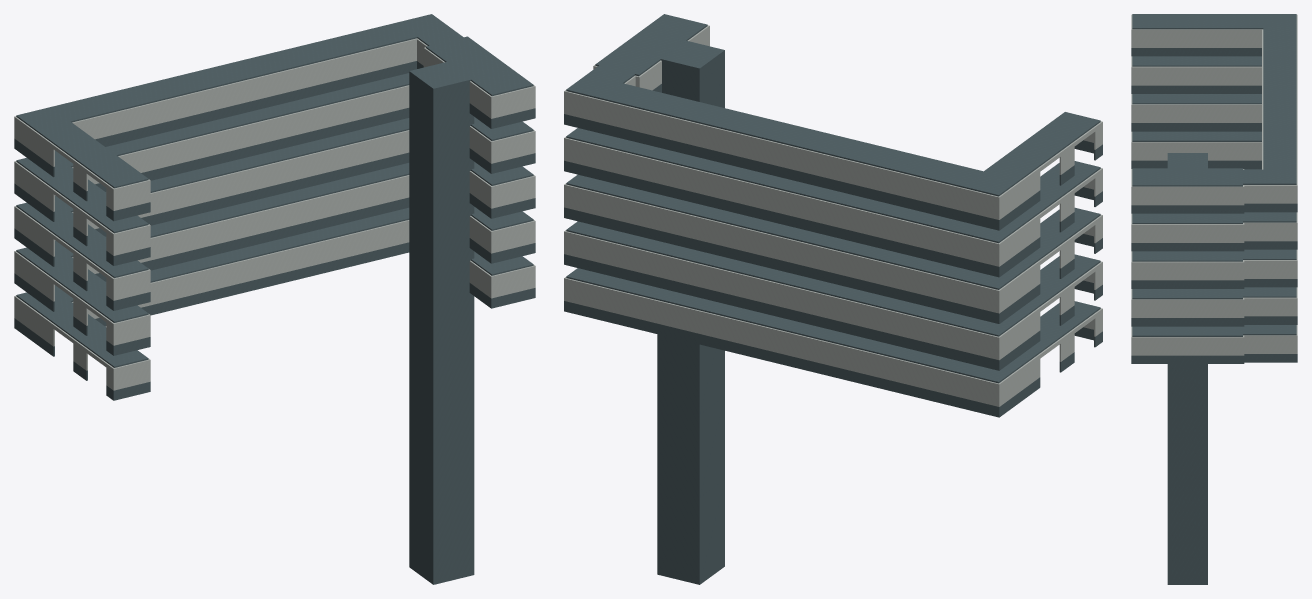
Rendered from AST-STF-G3-003.glb.
3 renders of one model, left to right at view 1: azimuth 30°, elevation 25°; view 2: azimuth 150°, elevation 25°; view 3: azimuth 270°, elevation 25°, orthographic. The views are drawn at different scales.
Visible parts, largest first — view 1: upper_shaft_staff_bluegrey_paint_y6, upper_shaft_staff_bluegrey_paint_y8, upper_shaft_staff_bluegrey_paint_y9, upper_shaft_staff_bluegrey_paint_y10, upper_shaft_staff_bluegrey_paint_y11, upper_shaft_staff_bluegrey_paint_y12, overhead_staff_bluegrey_paint_D17_-8_-63, overhead_staff_bluegrey_paint_D17_-3_-62, screen_wall_staff_white_paint_D13_-6_-63, screen_wall_staff_white_paint_D14_-4_-63, screen_wall_staff_white_paint_D16_-5_-63, screen_wall_staff_white_paint_D16_-4_-63 (+87 smaller); view 2: upper_shaft_staff_bluegrey_paint_y6, upper_shaft_staff_bluegrey_paint_y8, upper_shaft_staff_bluegrey_paint_y9, screen_wall_staff_white_paint_D13_-8_-63, screen_wall_staff_white_paint_D14_-8_-63, screen_wall_staff_white_paint_D15_-8_-63, screen_wall_staff_white_paint_D16_-8_-63, screen_wall_staff_white_paint_D17_-8_-63, overhead_staff_bluegrey_paint_D17_-3_-62, overhead_staff_bluegrey_paint_D17_-8_-63, screen_wall_staff_white_paint_D15_-6_-63, screen_wall_staff_white_paint_D16_-6_-63 (+83 smaller); view 3: upper_shaft_staff_bluegrey_paint_y6, screen_wall_staff_white_paint_D15_-3_-62, screen_wall_staff_white_paint_D16_-8_-62, screen_wall_staff_white_paint_D17_-3_-62, screen_wall_staff_white_paint_D13_-3_-62, screen_wall_staff_white_paint_D14_-3_-62, screen_wall_staff_white_paint_D15_-8_-62, screen_wall_staff_white_paint_D16_-3_-62, screen_wall_staff_white_paint_D17_-8_-62, overhead_staff_bluegrey_paint_D17_-3_-62, overhead_staff_bluegrey_paint_D17_-8_-63, overhead_staff_bluegrey_paint_D17_-8_-62 (+68 smaller).
Boxes of the visible parts, x1=… form: upper_shaft_staff_bluegrey_paint_y6: x1=409, y1=295, x2=474, y2=584; upper_shaft_staff_bluegrey_paint_y8: x1=409, y1=404, x2=474, y2=500; upper_shaft_staff_bluegrey_paint_y9: x1=409, y1=324, x2=474, y2=421; upper_shaft_staff_bluegrey_paint_y10: x1=409, y1=244, x2=474, y2=341; upper_shaft_staff_bluegrey_paint_y11: x1=409, y1=160, x2=474, y2=261; upper_shaft_staff_bluegrey_paint_y12: x1=409, y1=85, x2=474, y2=181; overhead_staff_bluegrey_paint_D17_-8_-63: x1=16, y1=99, x2=100, y2=139; overhead_staff_bluegrey_paint_D17_-3_-62: x1=426, y1=36, x2=510, y2=77; screen_wall_staff_white_paint_D13_-6_-63: x1=177, y1=258, x2=254, y2=298; screen_wall_staff_white_paint_D14_-4_-63: x1=330, y1=176, x2=406, y2=216; screen_wall_staff_white_paint_D16_-5_-63: x1=253, y1=104, x2=330, y2=145; screen_wall_staff_white_paint_D16_-4_-63: x1=330, y1=86, x2=406, y2=126; upper_shaft_staff_bluegrey_paint_y6: x1=657, y1=334, x2=724, y2=584; upper_shaft_staff_bluegrey_paint_y8: x1=657, y1=396, x2=724, y2=497; upper_shaft_staff_bluegrey_paint_y9: x1=657, y1=334, x2=724, y2=414; screen_wall_staff_white_paint_D13_-8_-63: x1=930, y1=359, x2=1033, y2=406; screen_wall_staff_white_paint_D14_-8_-63: x1=930, y1=312, x2=1033, y2=360; screen_wall_staff_white_paint_D15_-8_-63: x1=930, y1=266, x2=1033, y2=313; screen_wall_staff_white_paint_D16_-8_-63: x1=930, y1=219, x2=1033, y2=266; screen_wall_staff_white_paint_D17_-8_-63: x1=930, y1=172, x2=1033, y2=219; overhead_staff_bluegrey_paint_D17_-3_-62: x1=595, y1=31, x2=683, y2=76; overhead_staff_bluegrey_paint_D17_-8_-63: x1=931, y1=162, x2=1031, y2=196; screen_wall_staff_white_paint_D15_-6_-63: x1=771, y1=235, x2=851, y2=277; screen_wall_staff_white_paint_D16_-6_-63: x1=771, y1=188, x2=851, y2=230; upper_shaft_staff_bluegrey_paint_y6: x1=1167, y1=364, x2=1207, y2=584; screen_wall_staff_white_paint_D15_-3_-62: x1=1169, y1=261, x2=1242, y2=280; screen_wall_staff_white_paint_D16_-8_-62: x1=1169, y1=66, x2=1242, y2=85; screen_wall_staff_white_paint_D17_-3_-62: x1=1169, y1=186, x2=1242, y2=205; screen_wall_staff_white_paint_D13_-3_-62: x1=1169, y1=337, x2=1242, y2=355; screen_wall_staff_white_paint_D14_-3_-62: x1=1169, y1=299, x2=1242, y2=317; screen_wall_staff_white_paint_D15_-8_-62: x1=1169, y1=104, x2=1242, y2=122; screen_wall_staff_white_paint_D16_-3_-62: x1=1169, y1=224, x2=1242, y2=242; screen_wall_staff_white_paint_D17_-8_-62: x1=1169, y1=29, x2=1242, y2=47; overhead_staff_bluegrey_paint_D17_-3_-62: x1=1169, y1=168, x2=1242, y2=186; overhead_staff_bluegrey_paint_D17_-8_-63: x1=1243, y1=14, x2=1296, y2=40; overhead_staff_bluegrey_paint_D17_-8_-62: x1=1169, y1=14, x2=1242, y2=29.
Size of the model in its own units: 44.28 by 49.74 by 18.08.
Materials: 4 (4 with a texture image).
